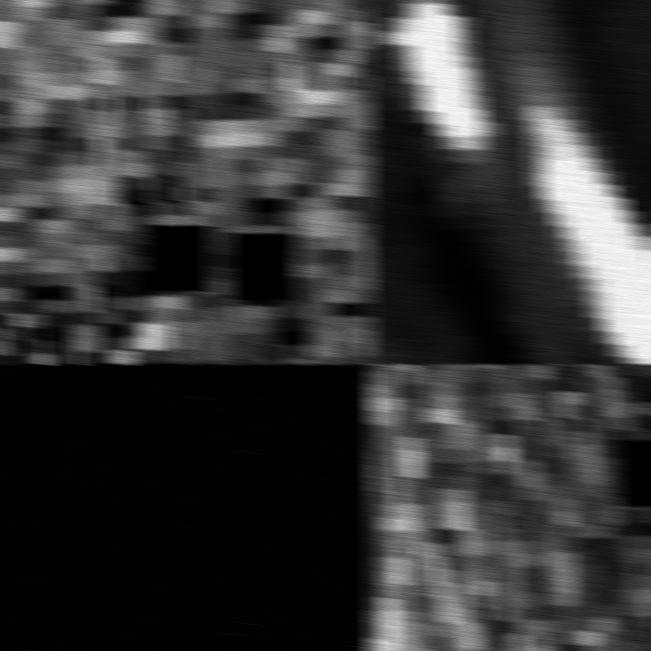AirbagV2: (0, 0, 374, 364), (367, 0, 651, 364), (367, 364, 651, 651)
